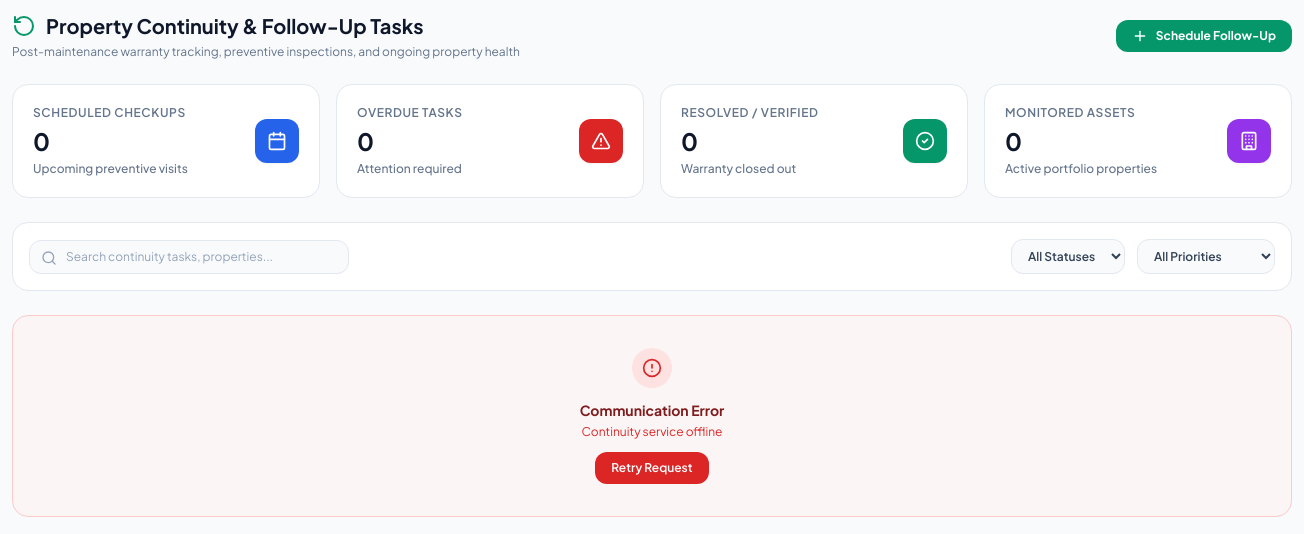
Test: FollowUpContinuityPage › renders error state and retries
Expected: the text "Continuity service offline" is shown, [580, 424, 724, 440]
Click the button "Retry Request": {"x": 652, "y": 468} [595, 452, 709, 484]
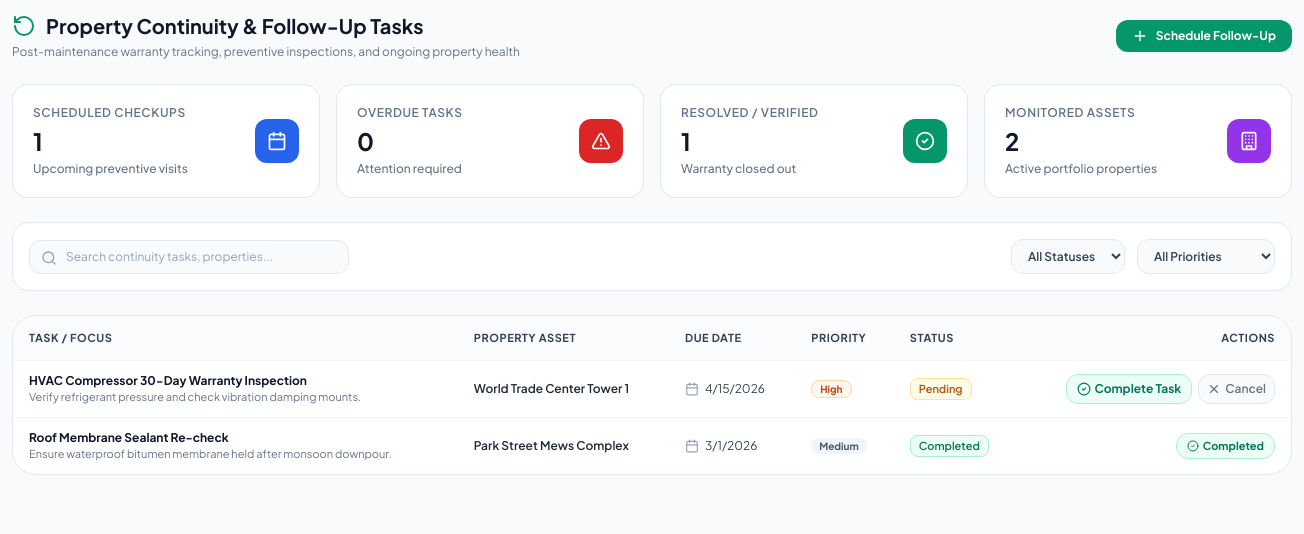
Expected: the text "HVAC Compressor 30-Day Warranty Inspection" is shown, [29, 373, 307, 388]
